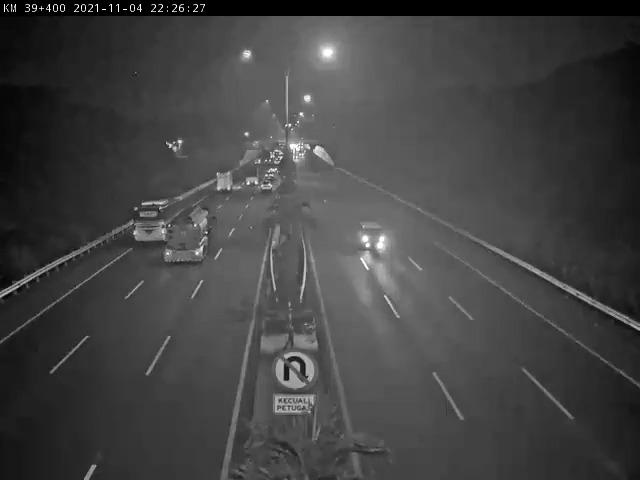bus-l-: (132, 199, 183, 244)
car: (354, 215, 388, 256), (260, 178, 274, 193), (263, 170, 278, 181)
truck-l-: (164, 204, 211, 264)
truck-m-: (214, 169, 234, 194)
